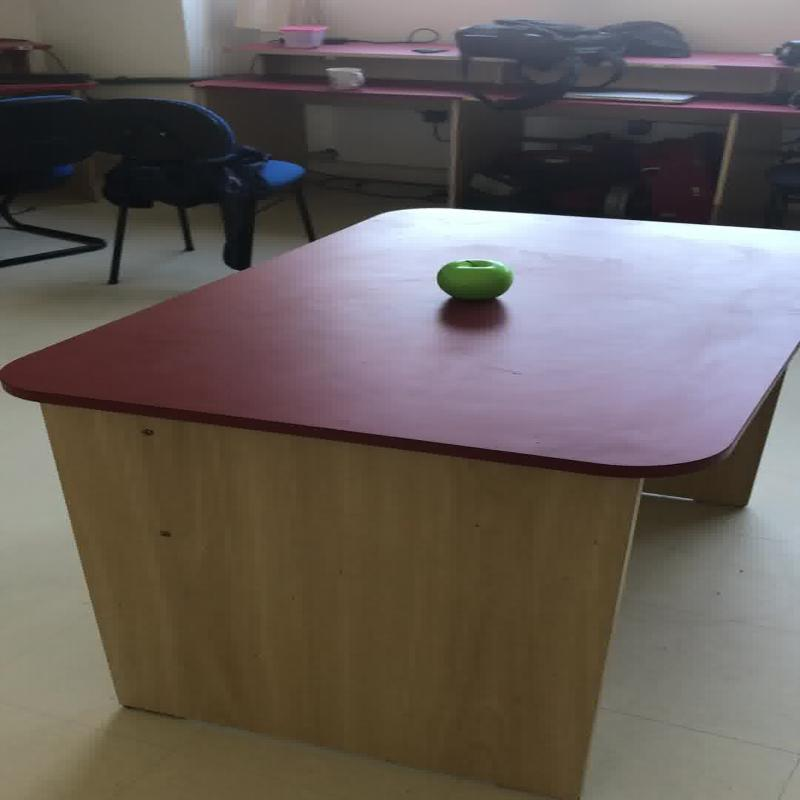apple: (436, 258, 512, 300)
